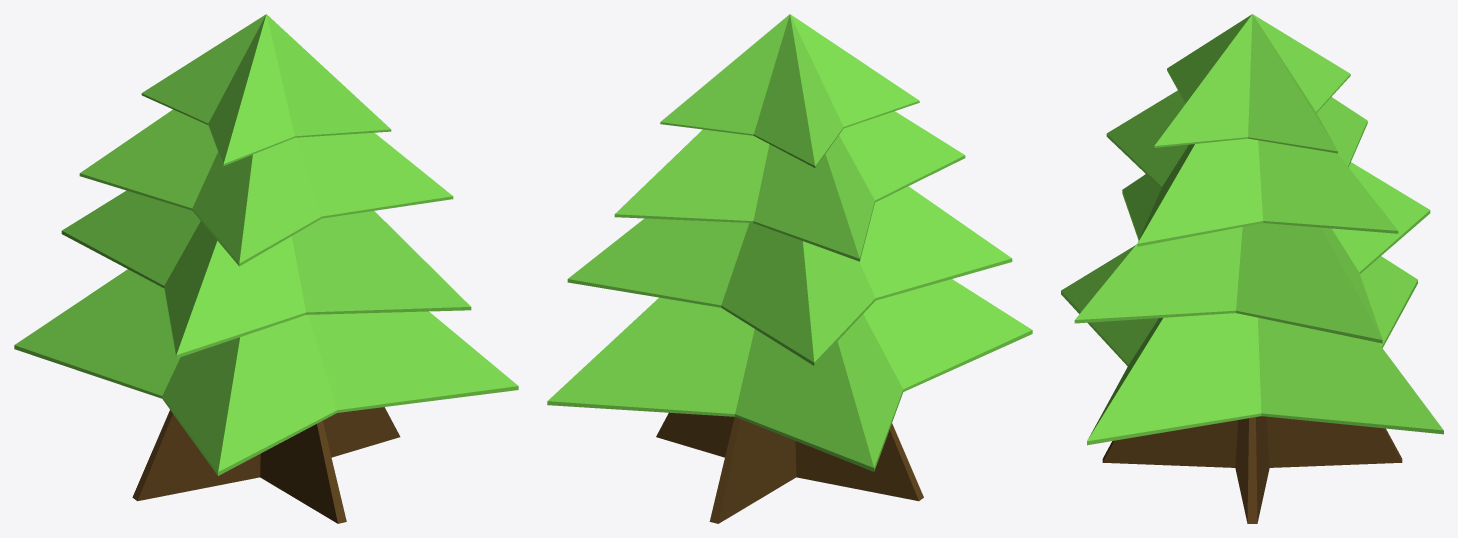
Rendered from Tree.fbx.
3 renders of one model, left to right at view 1: azimuth 30°, elevation 25°; view 2: azimuth 150°, elevation 25°; view 3: azimuth 270°, elevation 25°, orthographic.
Parts seen in each view (by area): view 1: Tree; view 2: Tree; view 3: Tree.
Part boxes in pixels (x1,y1,x2,y2): Tree: (14, 14, 518, 523); Tree: (547, 14, 1032, 523); Tree: (1061, 14, 1443, 523).
Size of the model in its own units: 256 by 329 by 256.
